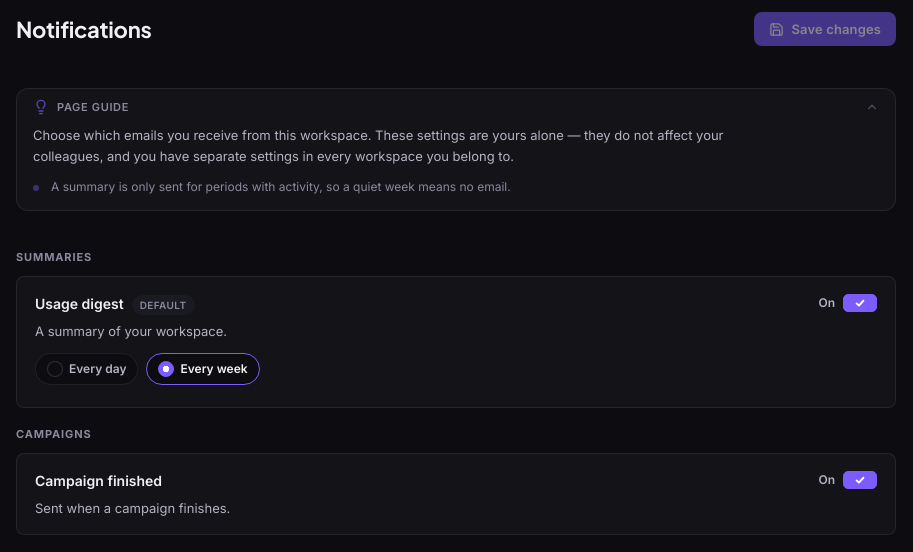
NotificationSettingsPage › the Default chip tracks the draft › disappears once the cadence diverges from the default
The width and height of the screenshot is (913, 552).
Expected: the text "Usage digest" is shown, [35,294,124,316]
Expected: the text "Default" is shown, [132,295,194,315]
Step 1. Click the radio button labelled "Every day" → x=55, y=369, box [47,361,63,377]
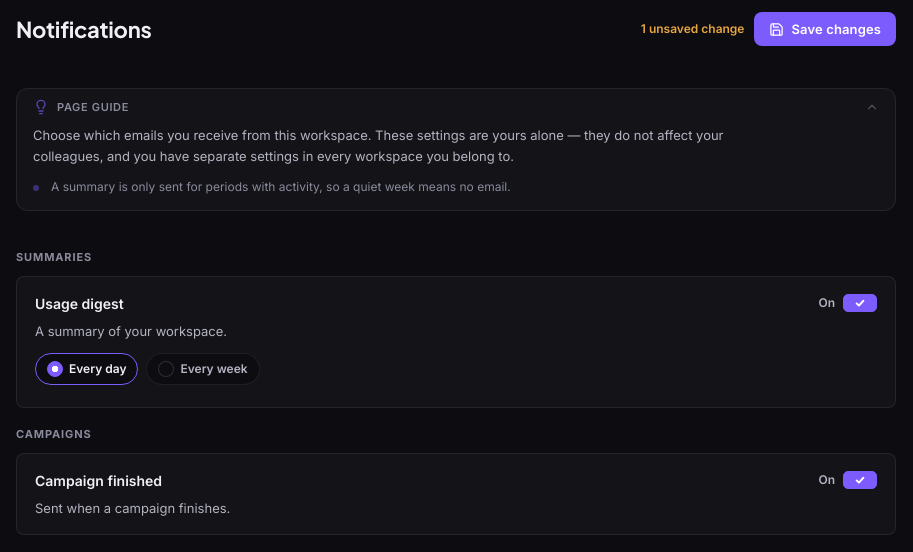
Now the text "Default" is gone
